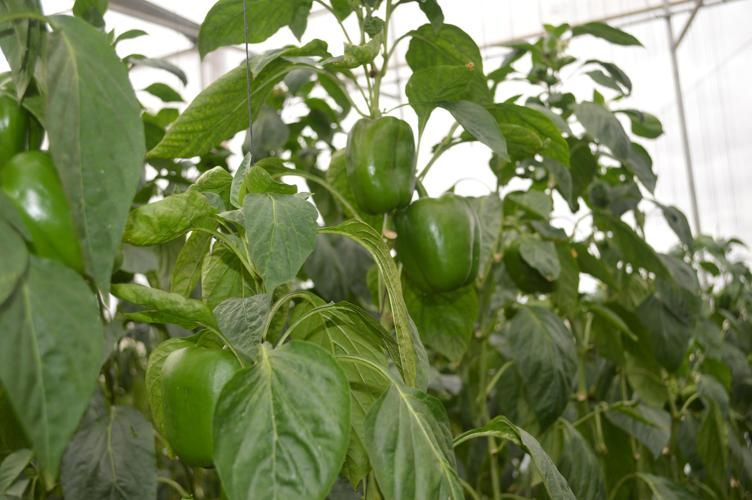BellPepper: (138, 347, 245, 454), (1, 148, 107, 255), (336, 114, 439, 217), (387, 195, 487, 295)
